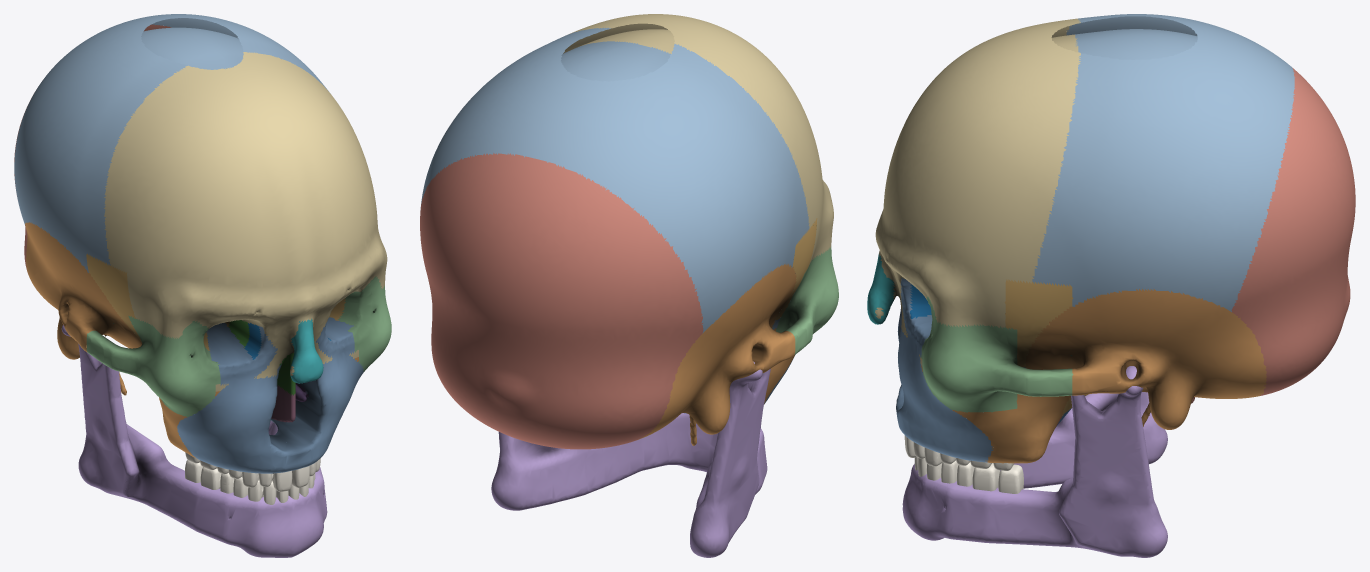
File: craneo-frontal.glb
3 renders of one model, left to right at view 1: azimuth 30°, elevation 25°; view 2: azimuth 150°, elevation 25°; view 3: azimuth 270°, elevation 25°, orthographic. The views are drawn at different scales.
Parts seen in each view (by area): view 1: frontal, parietal_R, mandible, maxilla_R, temporal_R, zygomatic_R, maxilla_L, parietal_L, zygomatic_L, sphenoid, nasal_R, ethmoid (+2 smaller); view 2: occipital, parietal_R, mandible, parietal_L, frontal, temporal_R, zygomatic_R, sphenoid; view 3: parietal_L, frontal, temporal_L, mandible, occipital, zygomatic_L, maxilla_L, parietal_R, sphenoid, nasal_L, tooth_lower_L_7_molar_2, tooth_lower_L_6_molar_1.
Boxes of the visible parts, x1=… form: frontal: x1=104, y1=52, x2=387, y2=391; parietal_R: x1=14, y1=17, x2=217, y2=272; mandible: x1=61, y1=324, x2=327, y2=557; maxilla_R: x1=177, y1=322, x2=299, y2=473; temporal_R: x1=25, y1=222, x2=220, y2=458; zygomatic_R: x1=86, y1=315, x2=220, y2=417; maxilla_L: x1=271, y1=317, x2=363, y2=469; parietal_L: x1=140, y1=14, x2=330, y2=93; zygomatic_L: x1=338, y1=276, x2=391, y2=372; sphenoid: x1=86, y1=253, x2=345, y2=350; nasal_R: x1=290, y1=320, x2=312, y2=383; ethmoid: x1=228, y1=320, x2=295, y2=395; occipital: x1=420, y1=153, x2=703, y2=449; parietal_R: x1=536, y1=44, x2=809, y2=333; mandible: x1=491, y1=361, x2=770, y2=557; parietal_L: x1=421, y1=27, x2=644, y2=204; frontal: x1=563, y1=14, x2=833, y2=267; temporal_R: x1=638, y1=263, x2=796, y2=445; zygomatic_R: x1=776, y1=225, x2=838, y2=355; sphenoid: x1=775, y1=218, x2=817, y2=320; parietal_L: x1=1024, y1=38, x2=1294, y2=367; frontal: x1=875, y1=18, x2=1080, y2=366; temporal_L: x1=921, y1=289, x2=1266, y2=463; mandible: x1=902, y1=366, x2=1167, y2=557; occipital: x1=1055, y1=68, x2=1355, y2=427; zygomatic_L: x1=921, y1=296, x2=1073, y2=412; maxilla_L: x1=896, y1=278, x2=993, y2=462; parietal_R: x1=1066, y1=14, x2=1294, y2=81; sphenoid: x1=1004, y1=279, x2=1088, y2=416; nasal_L: x1=867, y1=253, x2=894, y2=324; tooth_lower_L_7_molar_2: x1=998, y1=464, x2=1023, y2=493; tooth_lower_L_6_molar_1: x1=972, y1=463, x2=1000, y2=491.
Size of the model in its own units: 0.1501 by 0.2244 by 0.2019.
